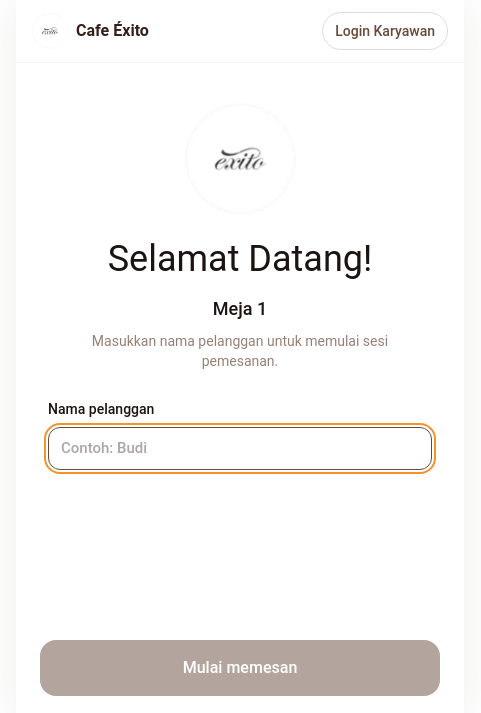
Test: alur lengkap dengan data mock › scan QR meja 1 membuka sesi dengan nama pelanggan
In the field labelled "Nama pelanggan": (240, 449) [48,427,432,470], type "Budi Test"
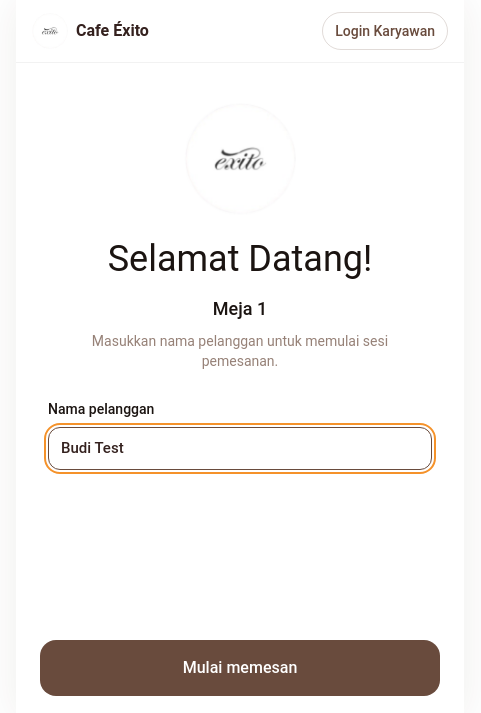
Click the button with test id "start-order-submit": (240, 668) [40,640,440,696]
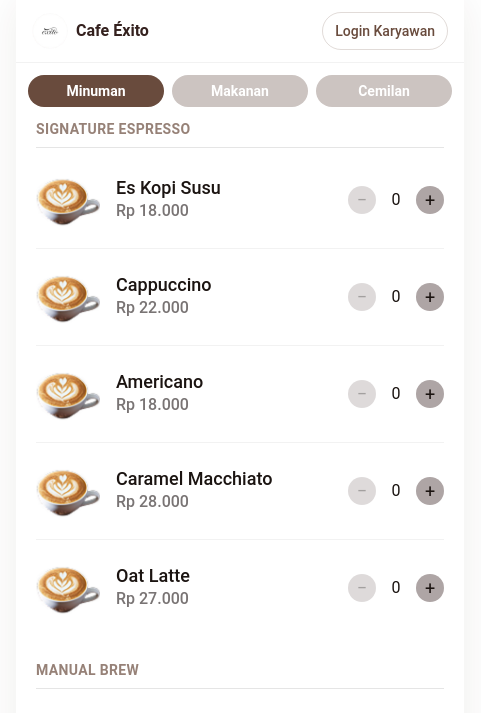
Expected: the text "Es Kopi Susu" is shown, [116,177,221,198]
